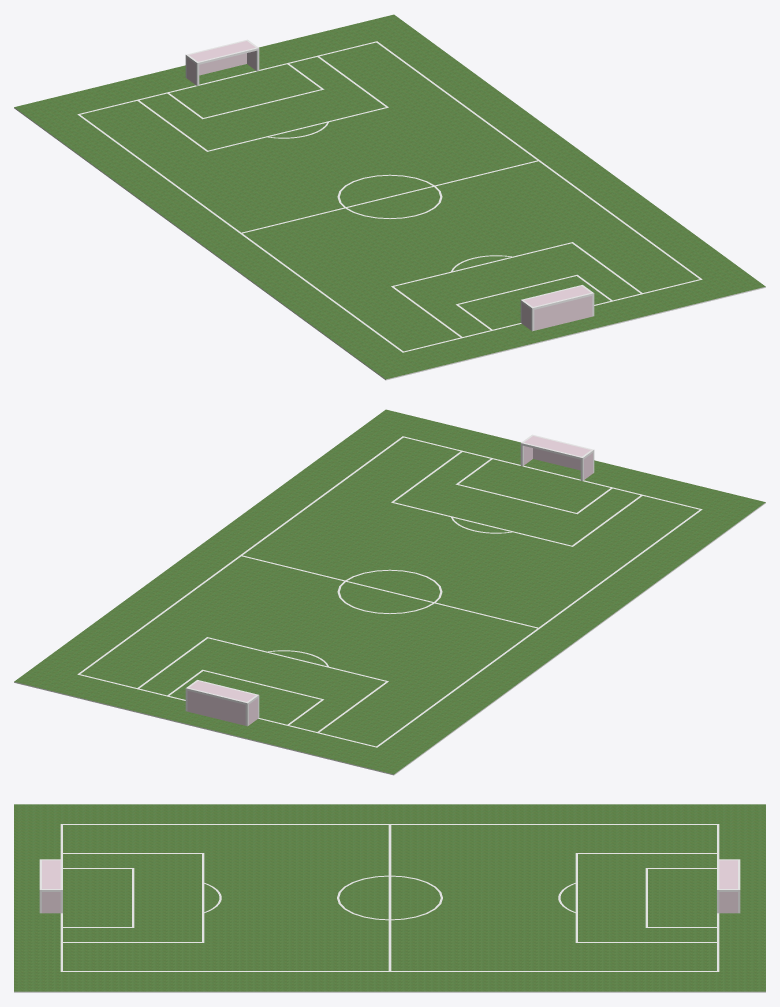
The model's file is soccerboard.glb.
The picture shows the model from 3 angles, top to bottom: view 1: azimuth 30°, elevation 25°; view 2: azimuth 150°, elevation 25°; view 3: azimuth 270°, elevation 25°; orthographic projection.
Visible parts, largest first — view 1: SketchUp.020, SketchUp.008, SketchUp.013, SketchUp.012, SketchUp.007, SketchUp.001, SketchUp.011, SketchUp.006, SketchUp.003, SketchUp.004, SketchUp.002, SketchUp.027 (+1 smaller); view 2: SketchUp.020, SketchUp.013, SketchUp.008, SketchUp.007, SketchUp.012, SketchUp.001, SketchUp.006, SketchUp.011, SketchUp.004, SketchUp.003, SketchUp.002, SketchUp.024 (+1 smaller); view 3: SketchUp.020, SketchUp.008, SketchUp.013, SketchUp.007, SketchUp.012, SketchUp.001, SketchUp.006, SketchUp.011, SketchUp.003, SketchUp.004, SketchUp.002, SketchUp.022 (+3 smaller).
Part boxes in pixels (box(x1,y1,x2,y2)): SketchUp.020: box(14, 14, 765, 379); SketchUp.008: box(243, 161, 699, 351); SketchUp.013: box(80, 42, 536, 232); SketchUp.012: box(140, 57, 385, 150); SketchUp.007: box(394, 243, 640, 336); SketchUp.001: box(77, 39, 702, 352); SketchUp.011: box(169, 64, 320, 117); SketchUp.006: box(459, 276, 610, 329); SketchUp.003: box(340, 175, 432, 206); SketchUp.004: box(348, 187, 439, 218); SketchUp.002: box(14, 107, 765, 380); SketchUp.027: box(534, 296, 592, 330); SketchUp.020: box(14, 409, 765, 774); SketchUp.013: box(80, 556, 536, 746); SketchUp.008: box(243, 437, 699, 627); SketchUp.007: box(394, 452, 639, 545); SketchUp.012: box(139, 638, 385, 731); SketchUp.001: box(77, 434, 702, 747); SketchUp.006: box(459, 459, 610, 512); SketchUp.011: box(169, 671, 320, 724); SketchUp.004: box(347, 570, 439, 601); SketchUp.003: box(340, 582, 431, 613); SketchUp.002: box(14, 502, 765, 775); SketchUp.024: box(187, 691, 245, 725); SketchUp.020: box(14, 804, 765, 991); SketchUp.008: box(63, 825, 388, 970); SketchUp.013: box(391, 825, 716, 970); SketchUp.007: box(63, 854, 201, 941); SketchUp.012: box(578, 854, 716, 941); SketchUp.001: box(39, 824, 740, 971); SketchUp.006: box(63, 869, 131, 926); SketchUp.011: box(648, 869, 716, 926); SketchUp.003: box(391, 876, 440, 919); SketchUp.004: box(339, 876, 388, 919); SketchUp.002: box(14, 991, 765, 992); SketchUp.022: box(719, 860, 737, 888).
Bounding box in the file's own units: 30.66 × 1.86 × 51.97.
6 materials, 3 textured.
